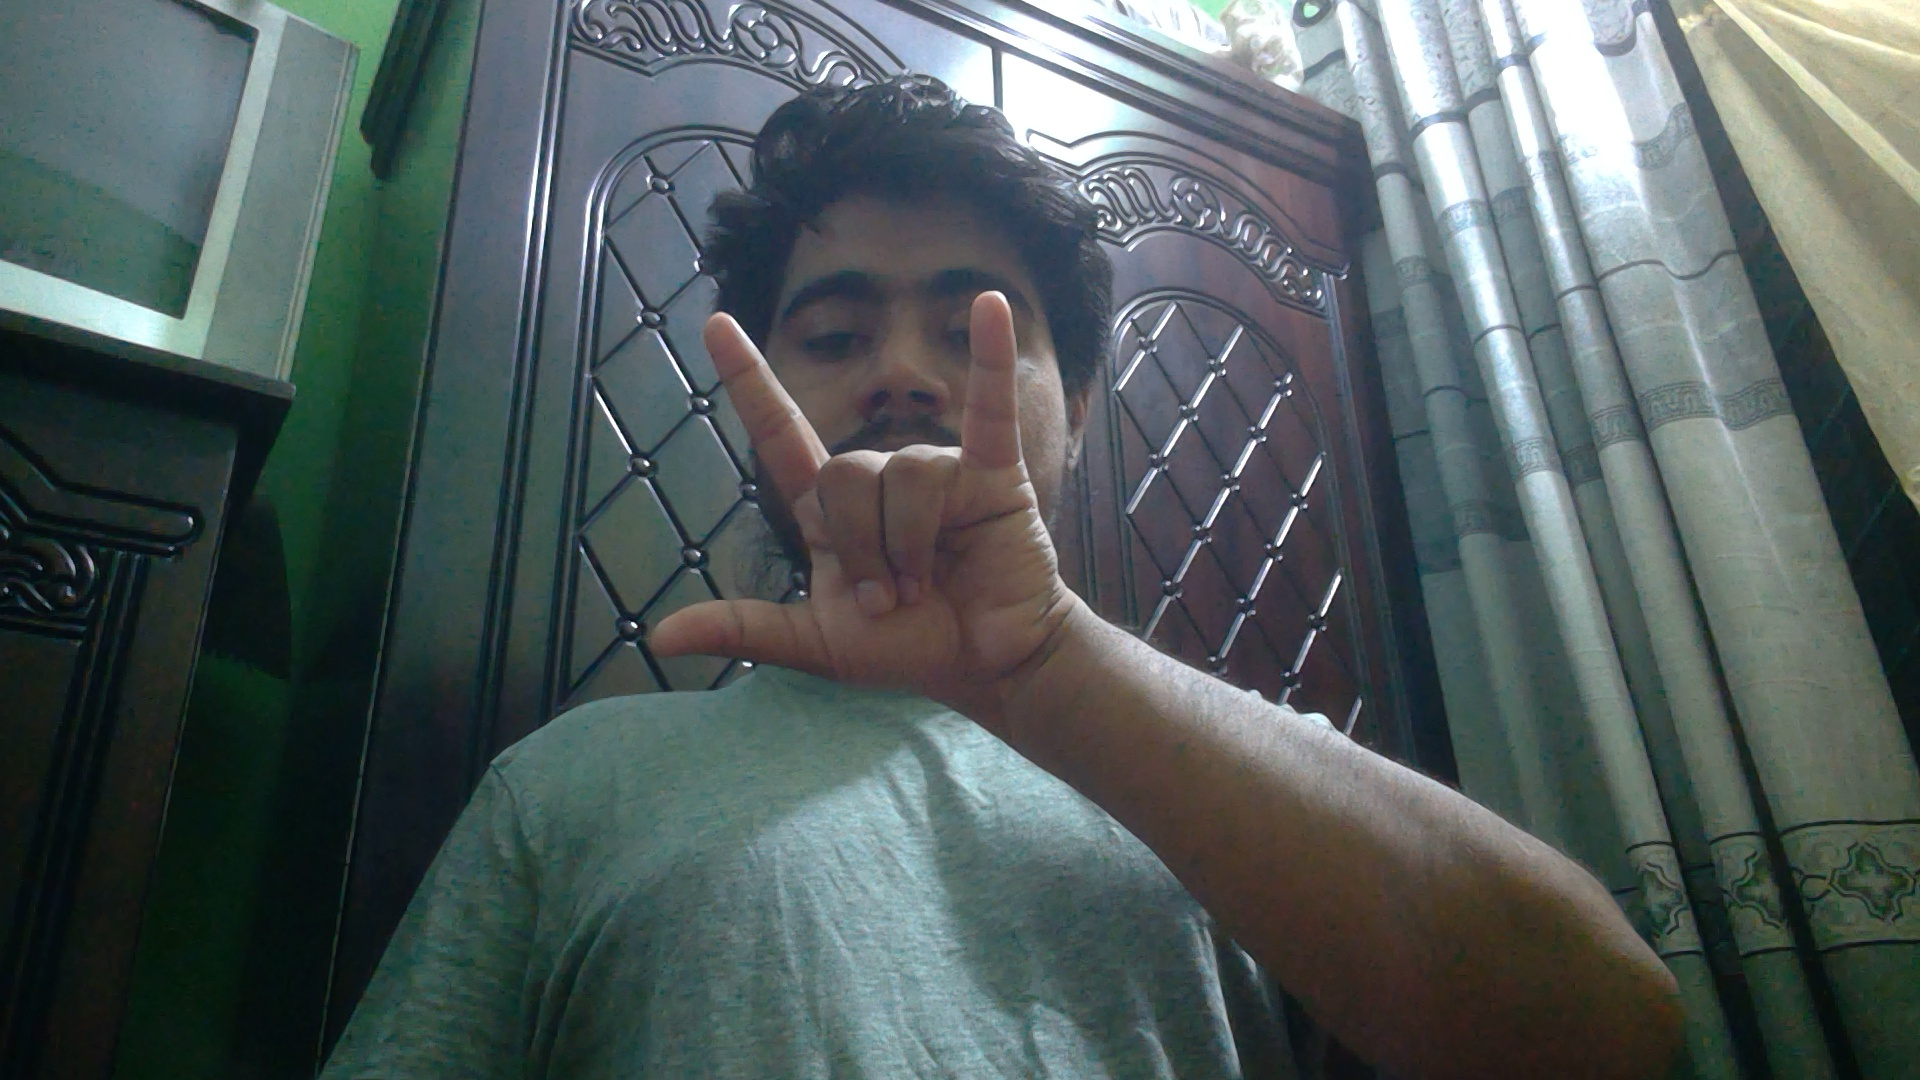Iloveyou: (638, 301, 1060, 720)
